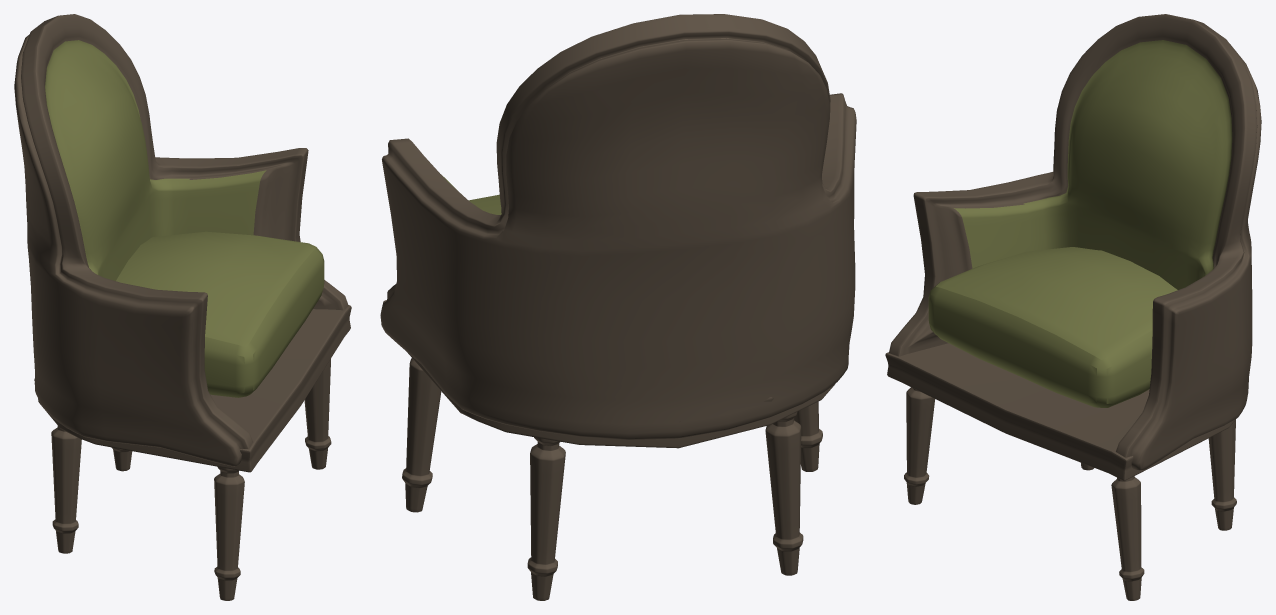
Rendered from fauteuil.fbx.
3 renders of one model, left to right at view 1: azimuth 30°, elevation 25°; view 2: azimuth 150°, elevation 25°; view 3: azimuth 270°, elevation 25°, orthographic. The views are drawn at different scales.
Visible parts, largest first — view 1: fauteuil; view 2: fauteuil; view 3: fauteuil.
Part boxes in pixels (x1,y1,x2,y2): fauteuil: (14, 14, 351, 600); fauteuil: (380, 14, 856, 600); fauteuil: (885, 14, 1261, 600).
Size of the model in its own units: 0.496 by 0.6722 by 0.494.
